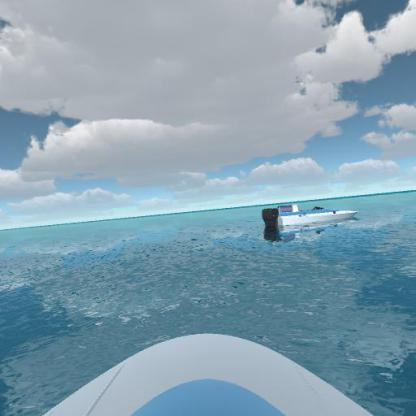usv1: (259, 197, 359, 237)
